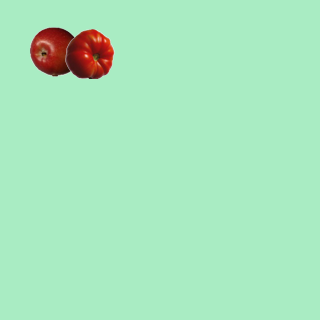Apple Braeburn: (29, 26, 79, 76)
Tomato 3: (64, 28, 114, 78)
